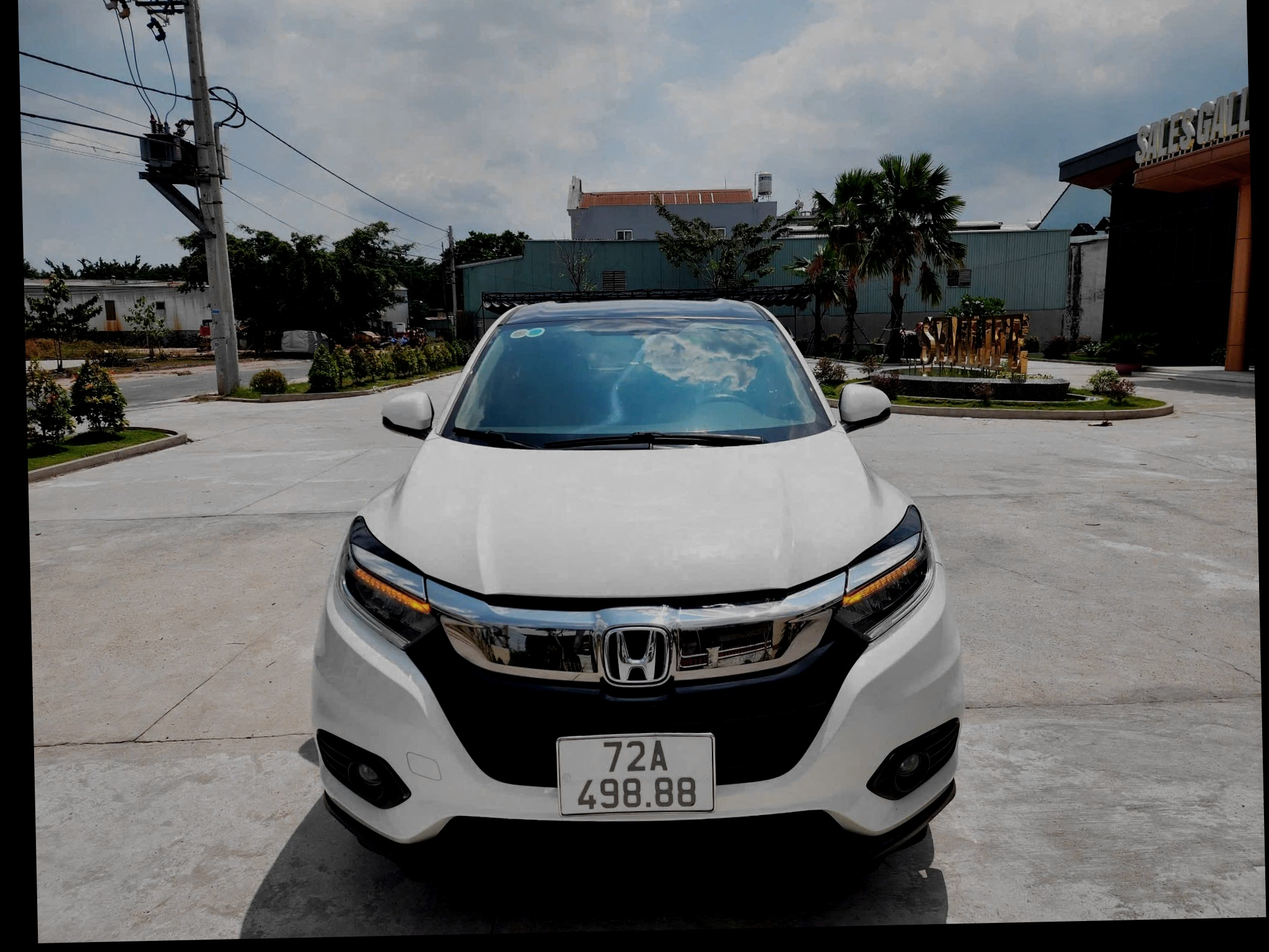Bien-so: (503, 737, 675, 854)
